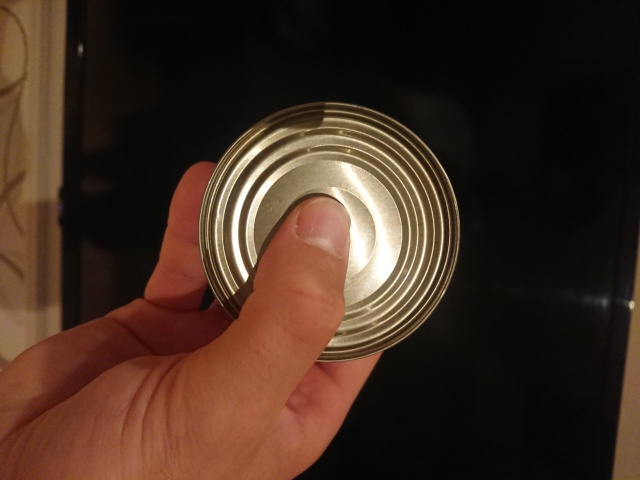Podravka Luncheon Meat 150g: (194, 98, 463, 367)
